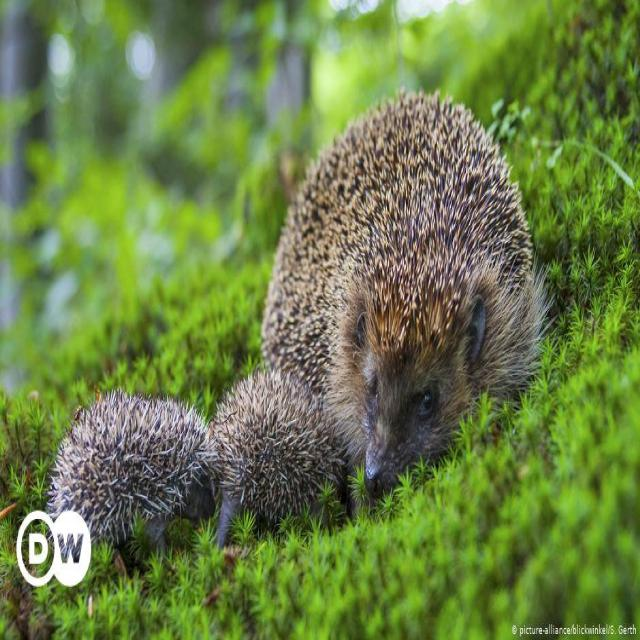Hedgehog: (265, 98, 558, 506), (50, 386, 227, 595), (212, 364, 362, 563)
